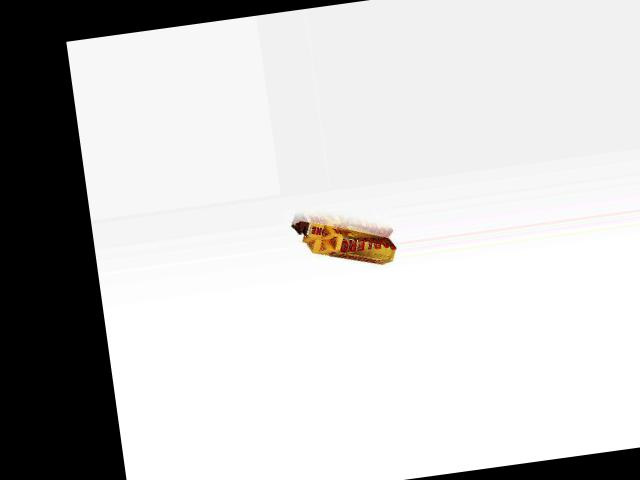chocolate: (290, 204, 397, 277)
